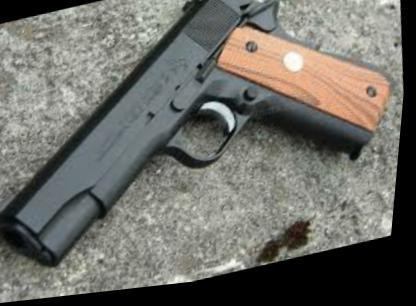pistol: (0, 0, 415, 281)
